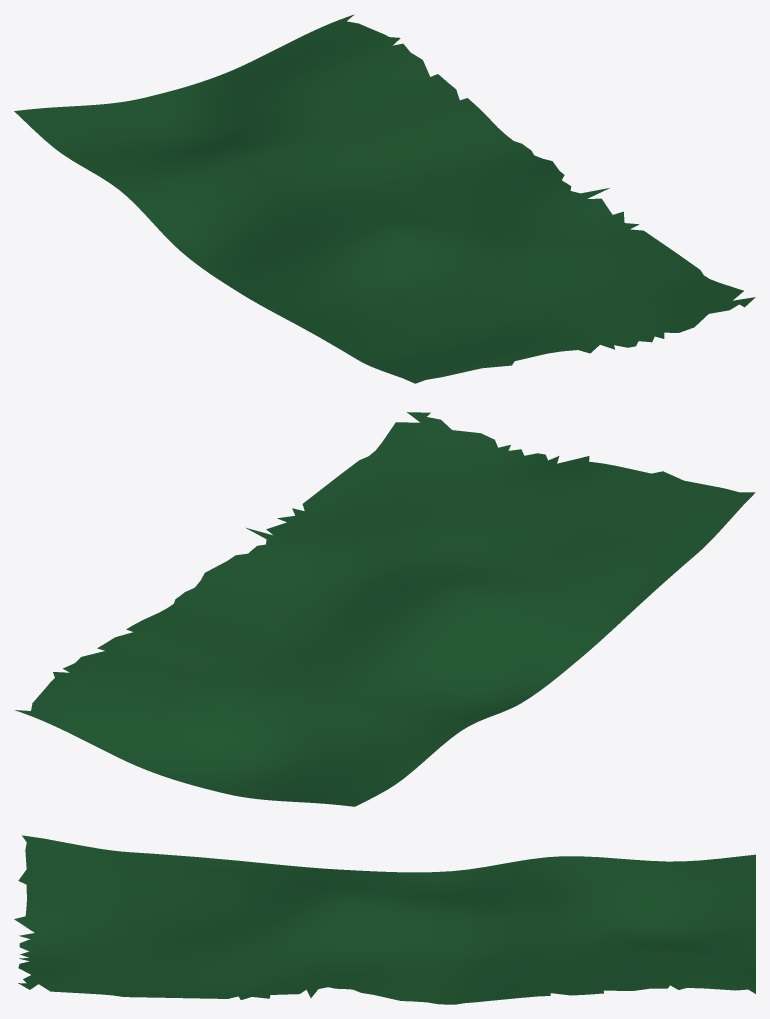
Rendered from payo_land_x4_ym3.glb.
3 views of the same model, one above another, from view 1: azimuth 30°, elevation 25°; view 2: azimuth 150°, elevation 25°; view 3: azimuth 270°, elevation 25° (orthographic). The views are drawn at different scales.
Visible parts, largest first — view 1: payo_land_x4_ym3; view 2: payo_land_x4_ym3; view 3: payo_land_x4_ym3.
Boxes of the visible parts, box(x1,y1,x2,y2) form: payo_land_x4_ym3: box(14, 14, 755, 383); payo_land_x4_ym3: box(15, 412, 755, 806); payo_land_x4_ym3: box(14, 835, 755, 1004).
Bounding box in the file's own units: 131 × 16 × 259.
